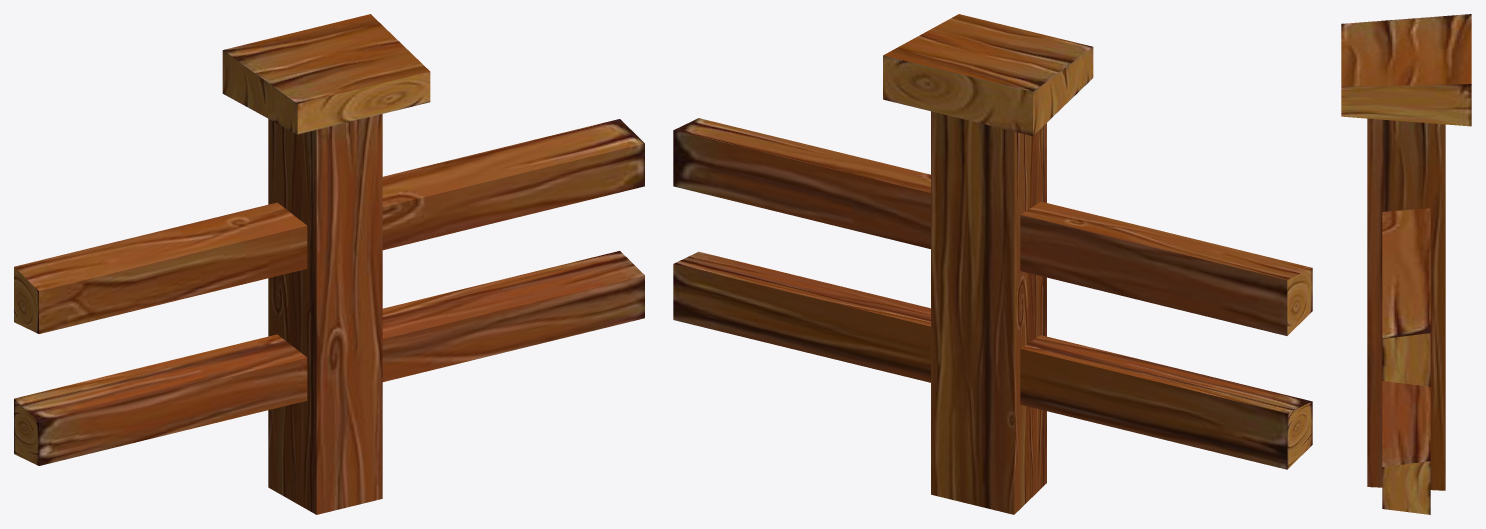
File: fence2.fbx
3 views of the same model, side by side, from view 1: azimuth 30°, elevation 25°; view 2: azimuth 150°, elevation 25°; view 3: azimuth 270°, elevation 25° (orthographic). The views are drawn at different scales.
Parts seen in each view (by area): view 1: Zabor_02; view 2: Zabor_02; view 3: Zabor_02.
Boxes of the visible parts, x1=… form: Zabor_02: x1=14, y1=14, x2=644, y2=514; Zabor_02: x1=673, y1=14, x2=1312, y2=514; Zabor_02: x1=1341, y1=14, x2=1471, y2=514.
Bounding box in the file's own units: 1432 × 983 × 275.
1 material, 1 textured.
